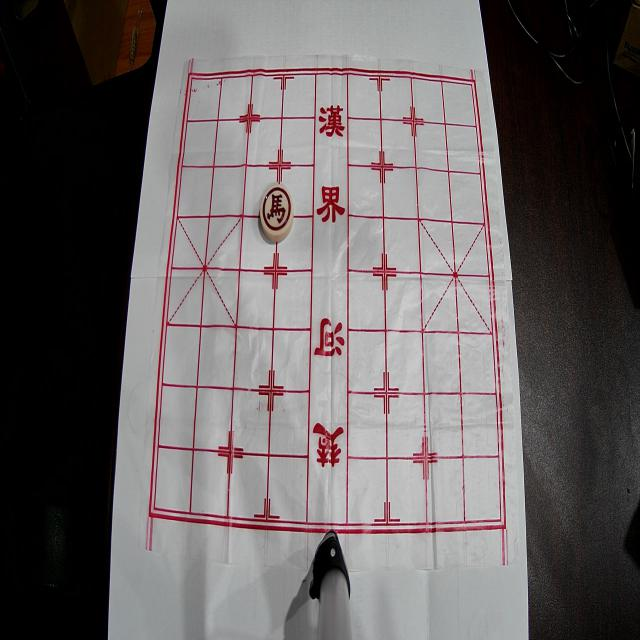red-horse: (260, 184, 294, 242)
